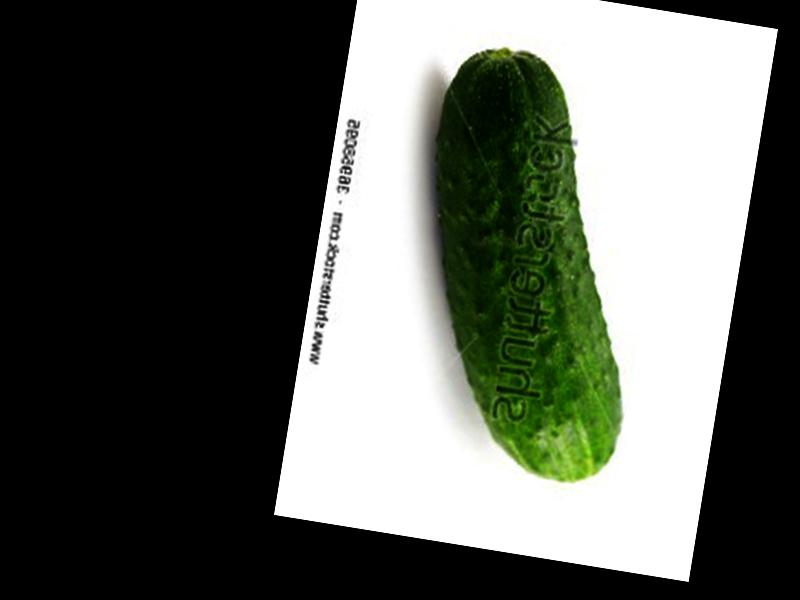Cucumber: (384, 40, 677, 489)
